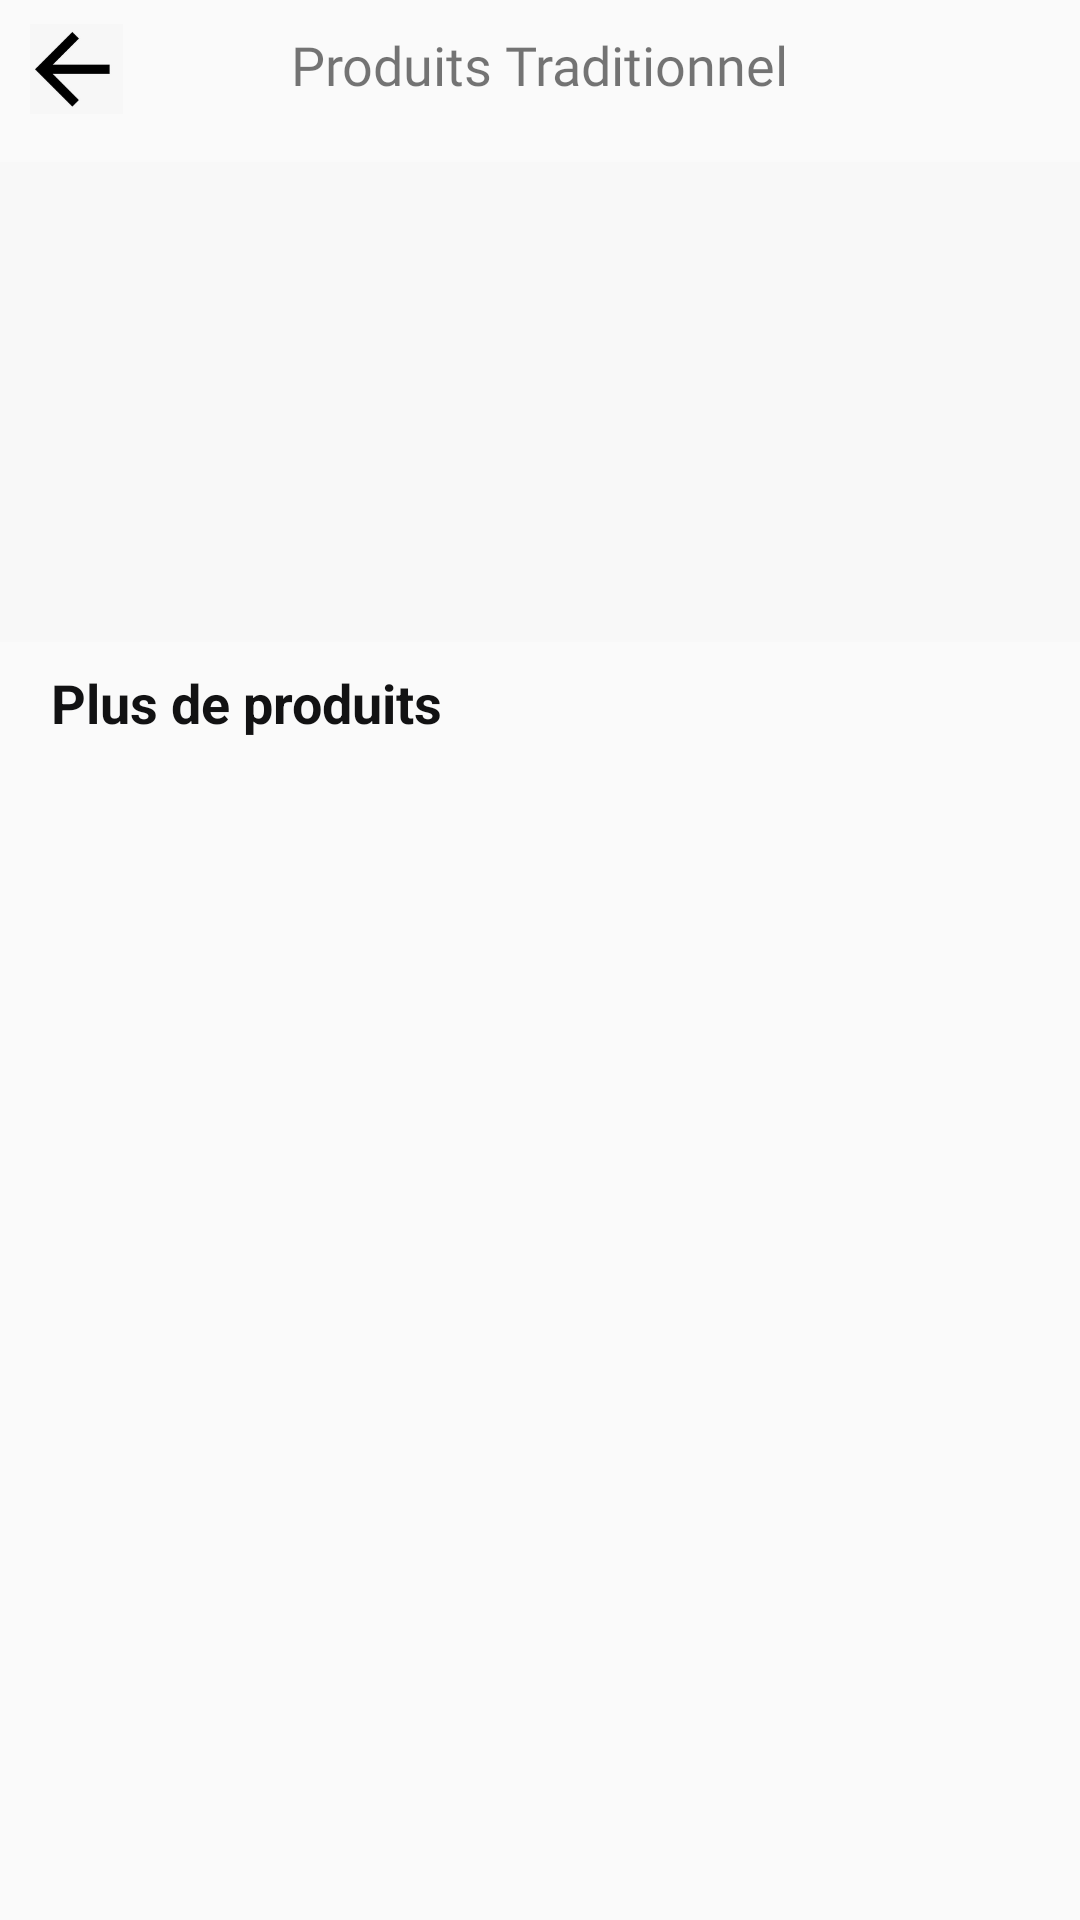

Screen size 1080px x 1920px. Icon name, then its center in pixels as (x=x, y=y):
retour: (x=72, y=69)
